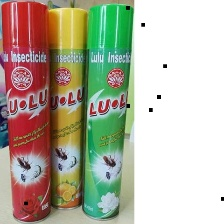insecticide: (80, 0, 134, 221), (1, 0, 54, 221), (47, 0, 91, 213)
